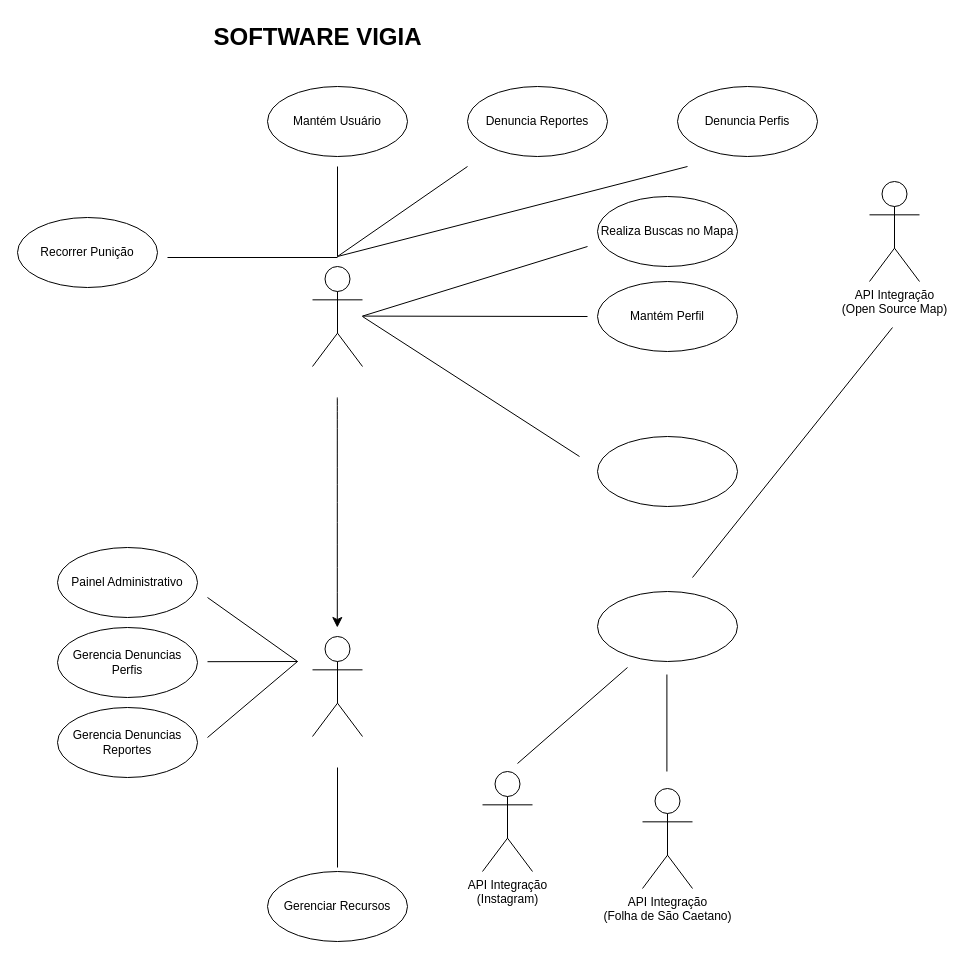
Some shapes in this 964 by 959 pixel diagram are drawn without their labels. The shapes that lost their labels are listed below. From the top down, each one's centre as x and y in pixels, then its label:
the point at 337,316: Usuário
the point at 667,471: Mantém Reportes
the point at 667,626: Criar Reportes (API)
the point at 337,686: Admin
